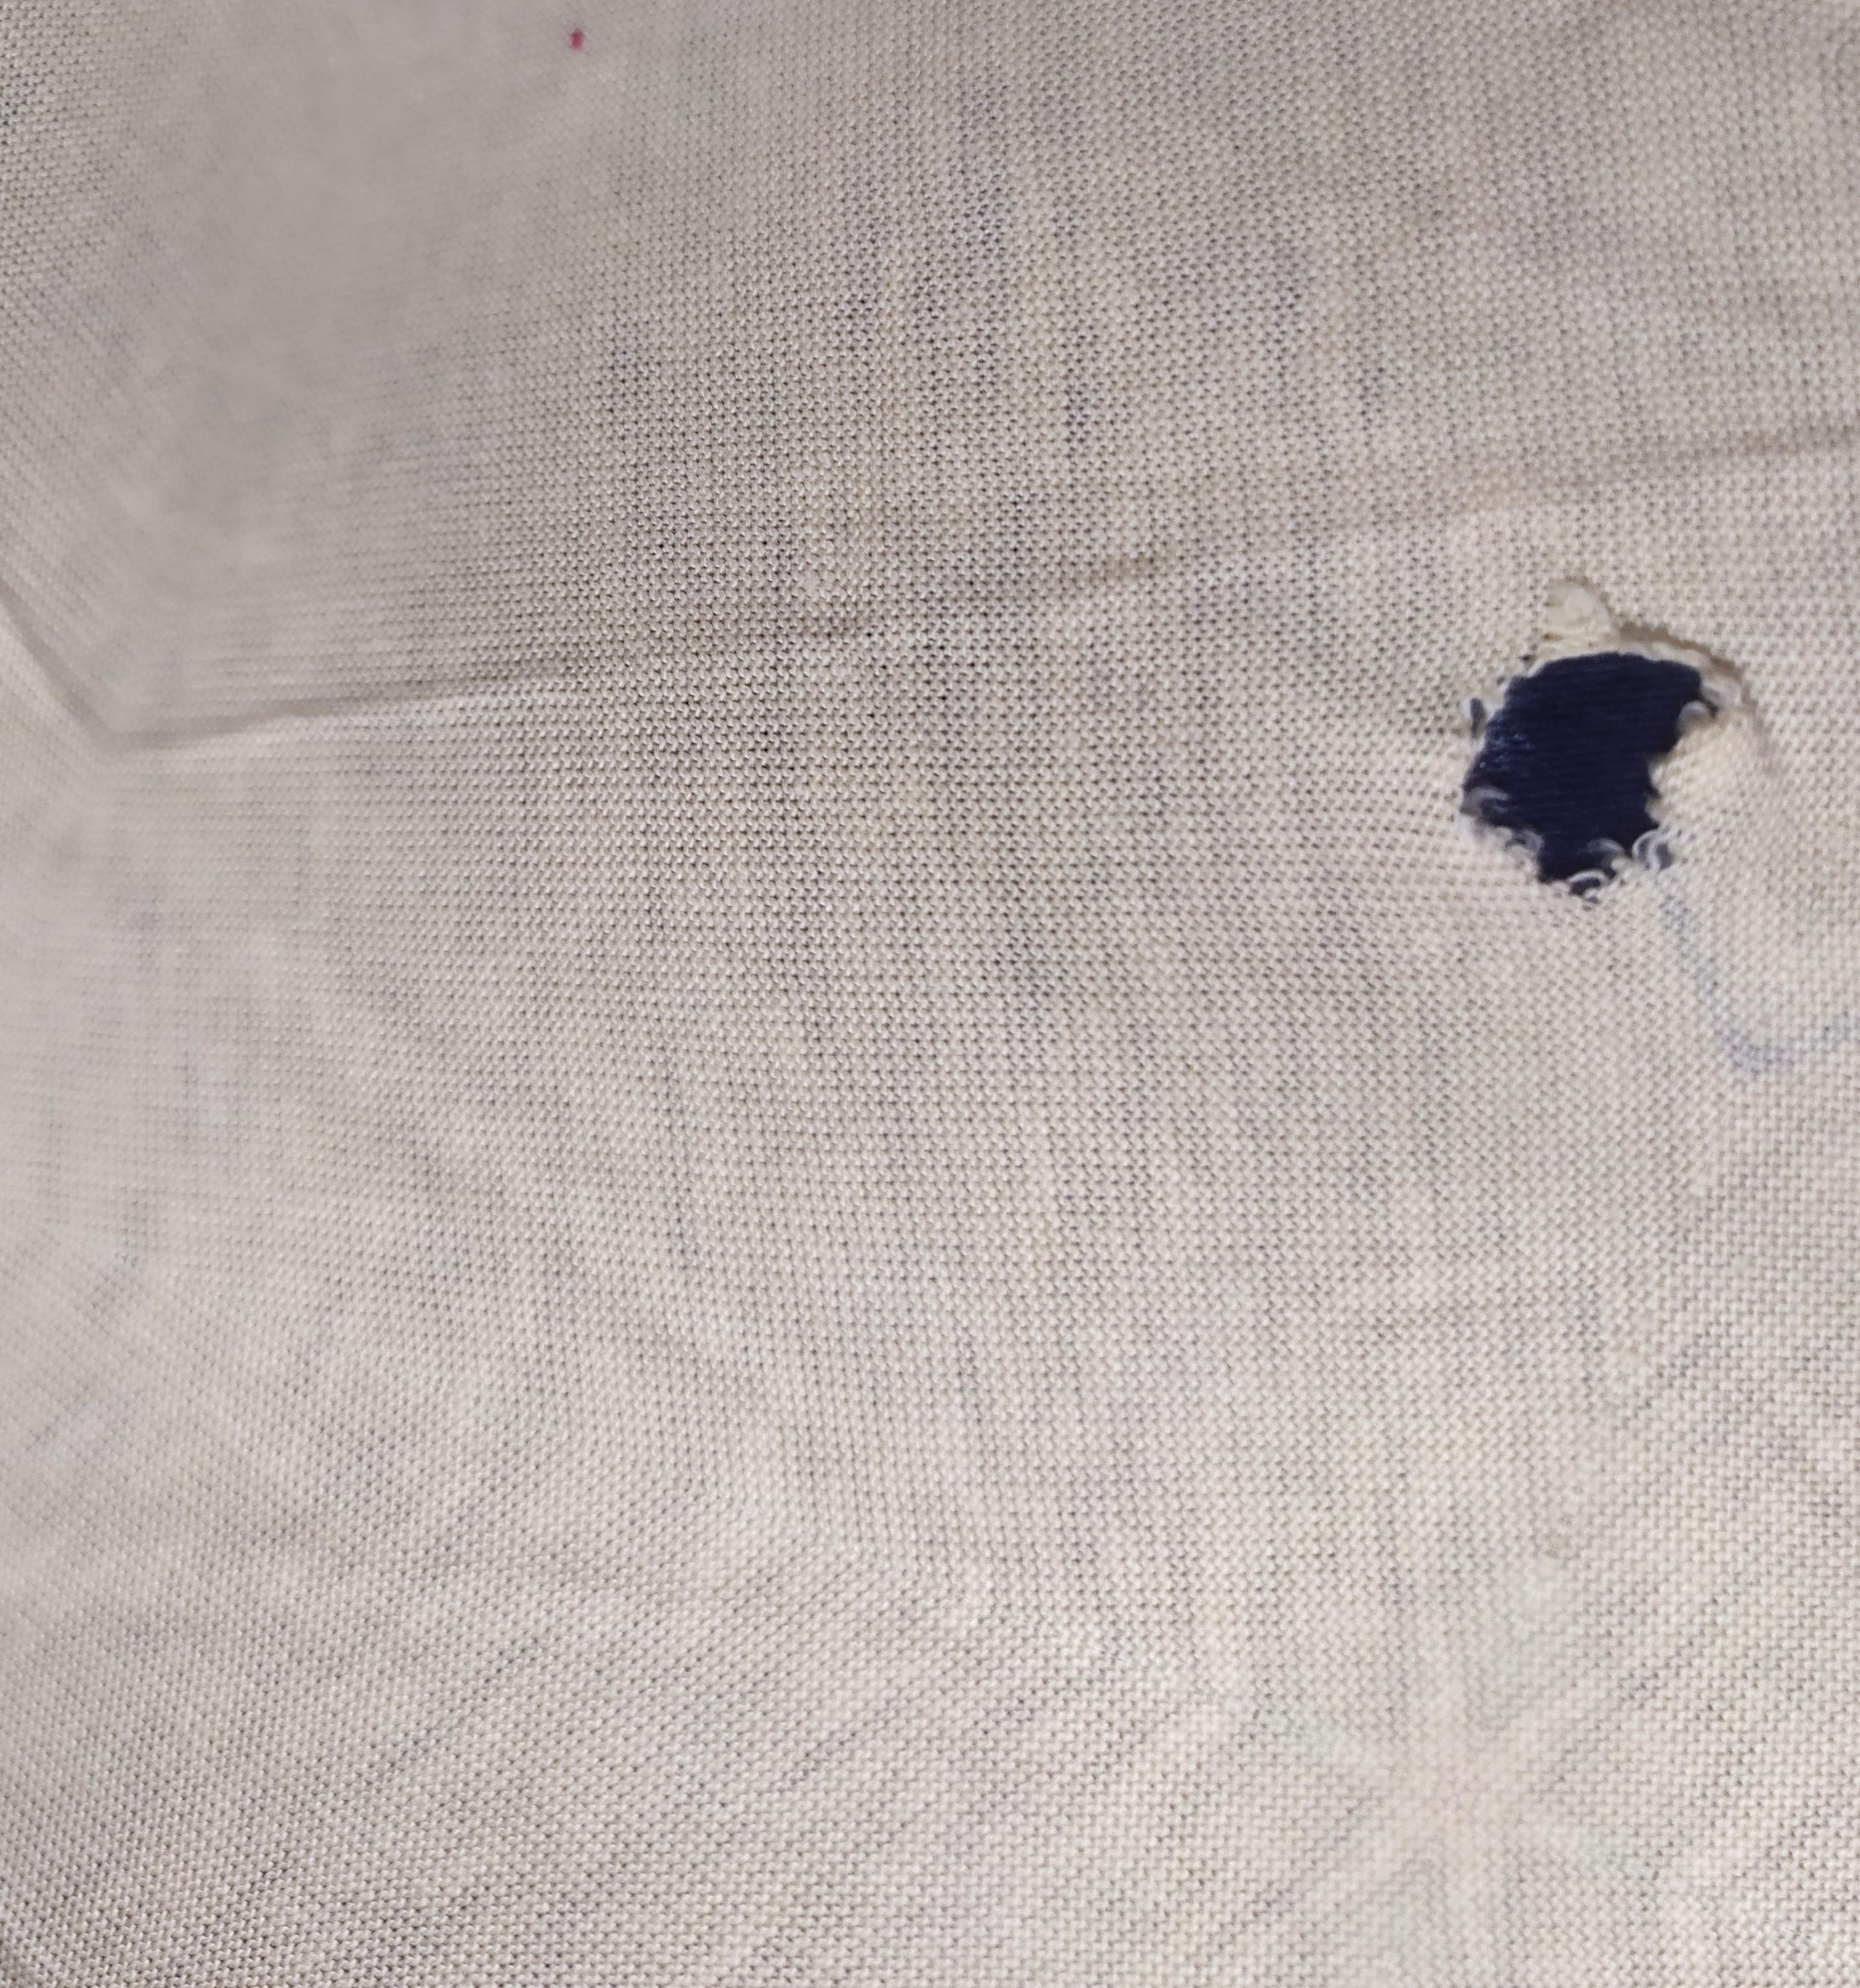hole: (1430, 565, 1771, 921)
